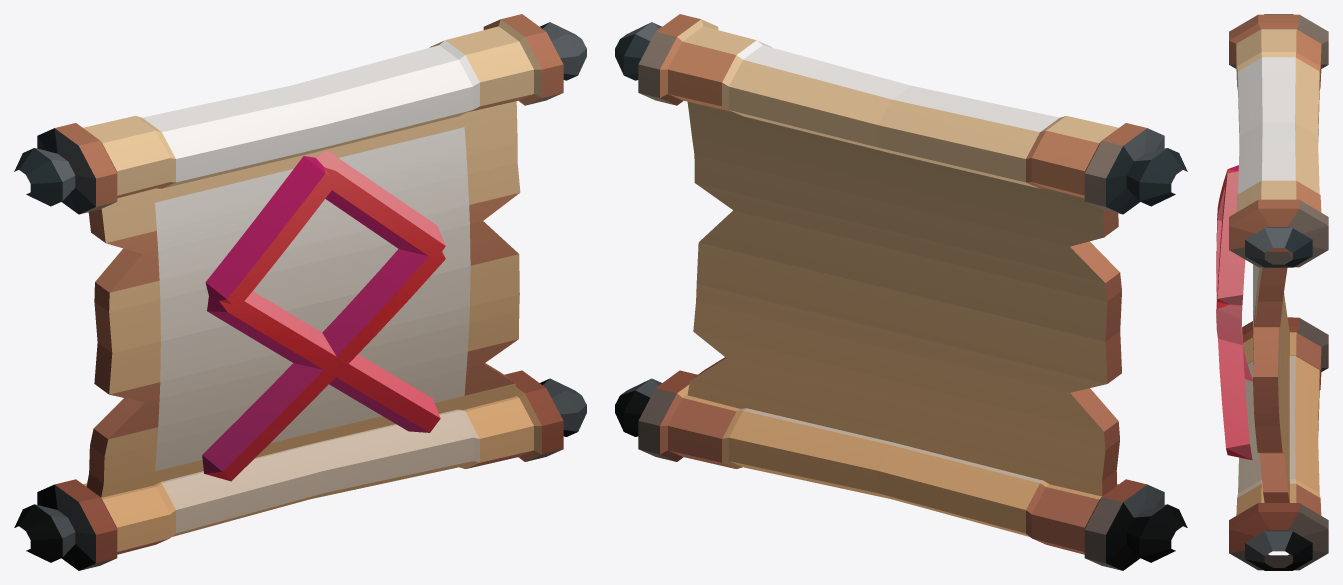
Rendered from source.glb.
The picture shows the model from 3 angles, left to right: view 1: azimuth 30°, elevation 25°; view 2: azimuth 150°, elevation 25°; view 3: azimuth 270°, elevation 25°; orthographic projection. The views are drawn at different scales.
Visible parts, largest first — view 1: model; view 2: model; view 3: model.
Part boxes in pixels (x1,y1,x2,y2): model: (14,14,586,570); model: (615,14,1187,570); model: (1216,14,1328,570).
Bounding box in the file's own units: 0.88 × 0.64 × 0.18.
Materials: 1 (1 with a texture image).
